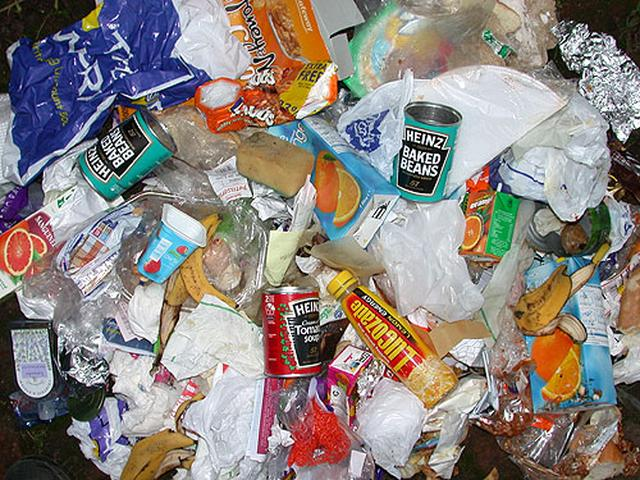garbage: (15, 30, 640, 474)
